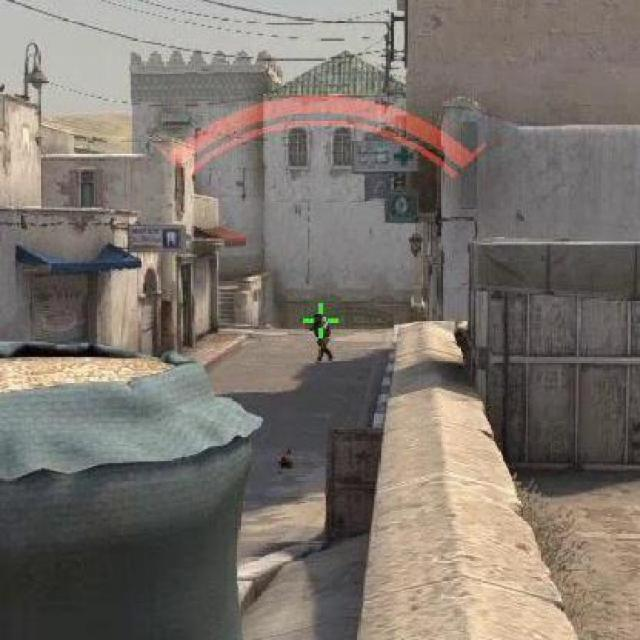CT-Body: (315, 312, 323, 318)
CT-Head: (314, 310, 328, 352)
